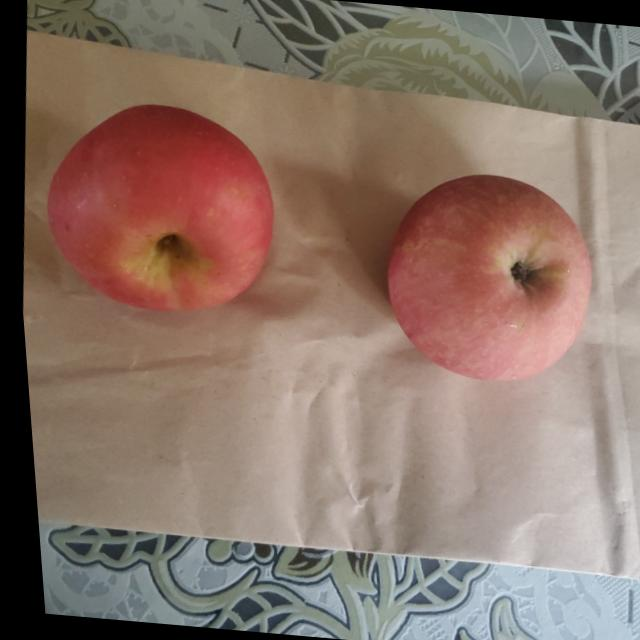apple: (29, 100, 283, 326), (368, 167, 598, 390)
